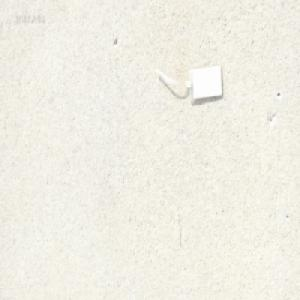LuggageTag: (153, 62, 224, 103)
